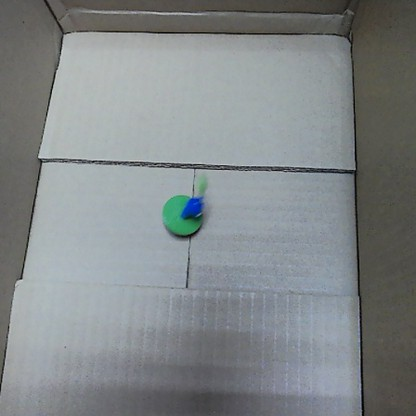leafairy: (160, 171, 210, 240)
